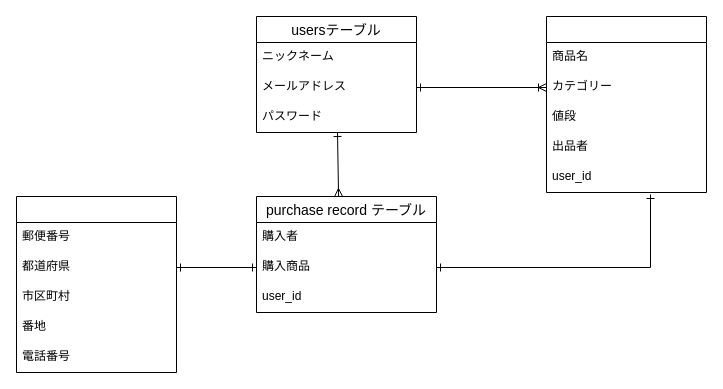
This 723x389 diagram has some shape labels left out. Each missing label, with the box of its shape:
customer テーブル: (16, 196, 176, 372)
itemsテーブル: (546, 16, 706, 192)
